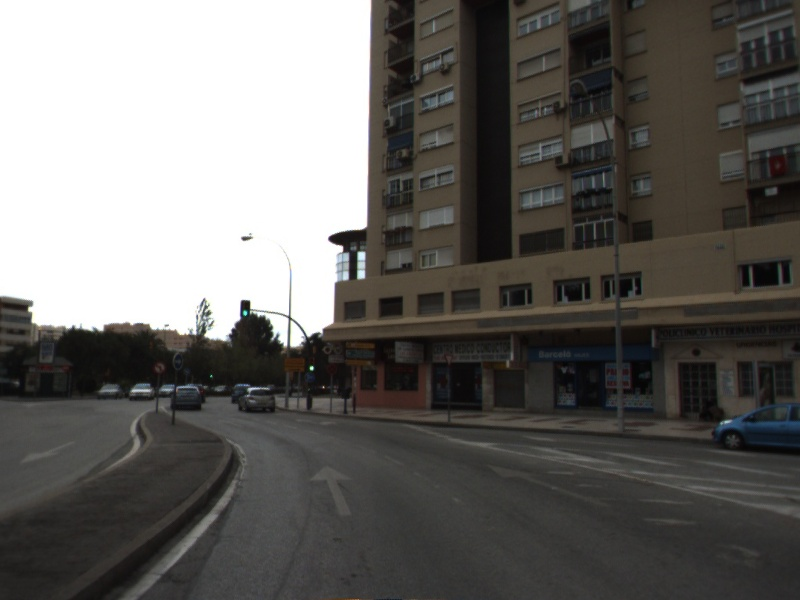STRAIGHT: (485, 462, 611, 509), (307, 463, 356, 518)
